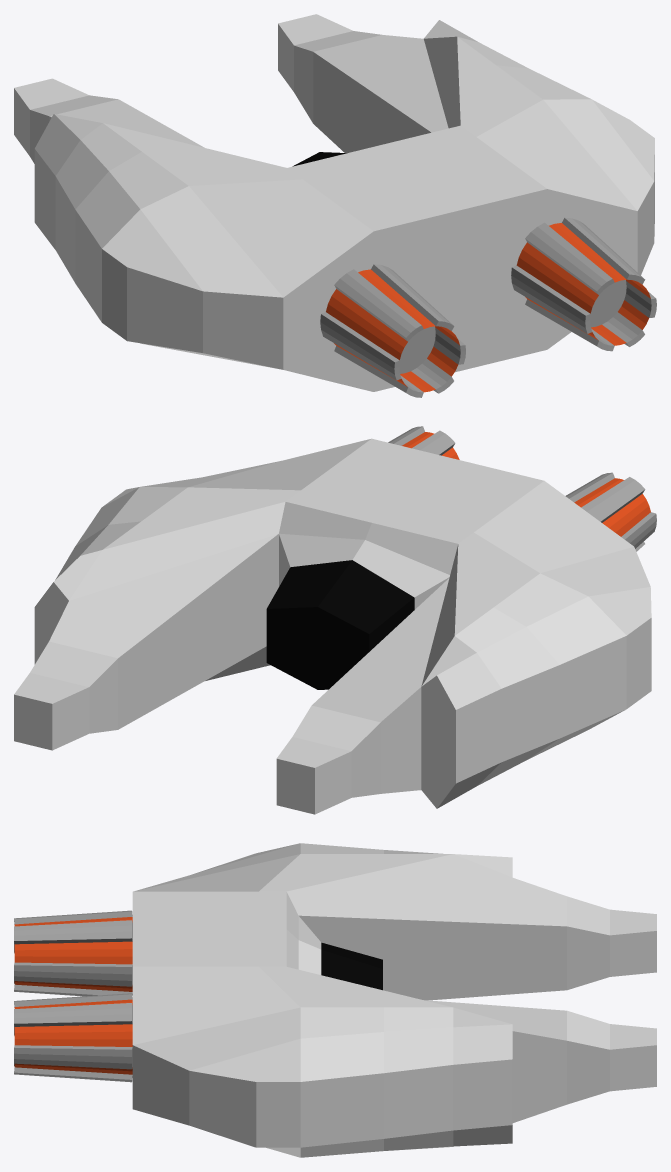
The model's file is ShipM3.fbx.
The picture shows the model from 3 angles, top to bottom: view 1: azimuth 30°, elevation 25°; view 2: azimuth 150°, elevation 25°; view 3: azimuth 270°, elevation 25°; orthographic projection. The views are drawn at different scales.
Parts seen in each view (by area): view 1: Cube, Cylinder.001, Cylinder; view 2: Cube, Cylinder.001, Cylinder; view 3: Cube, Cylinder, Cylinder.001.
Part boxes in pixels (x1,y1,x2,y2): Cube: (14, 14, 654, 391); Cylinder.001: (320, 264, 465, 397); Cylinder: (511, 217, 656, 351); Cube: (14, 438, 651, 814); Cylinder.001: (565, 472, 656, 551); Cylinder: (388, 426, 459, 459); Cube: (132, 843, 656, 1157); Cylinder: (14, 993, 132, 1082); Cylinder.001: (14, 910, 132, 996).
Size of the model in its own units: 688 by 200 by 817.
